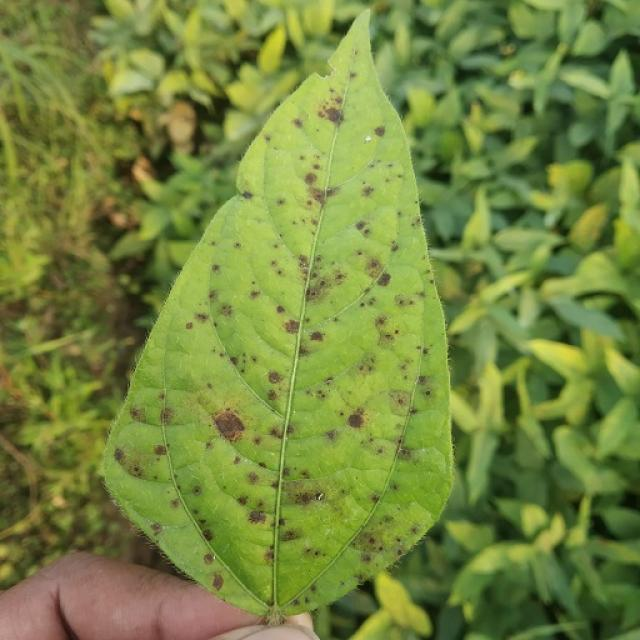Anthracnose: (204, 402, 264, 452), (279, 478, 334, 507), (305, 274, 339, 304), (317, 98, 344, 123), (260, 604, 287, 626), (346, 407, 367, 429), (308, 187, 326, 204), (129, 406, 145, 422), (248, 510, 266, 524), (283, 319, 299, 334), (160, 407, 174, 424), (376, 272, 391, 287), (304, 171, 319, 186), (267, 371, 283, 384), (211, 574, 224, 590), (113, 448, 125, 463), (247, 471, 260, 484), (150, 522, 163, 535), (297, 255, 309, 269), (153, 444, 167, 456), (309, 331, 324, 342), (361, 185, 374, 197), (374, 125, 386, 137), (355, 220, 367, 232), (202, 529, 213, 542), (203, 553, 214, 565), (240, 190, 253, 200), (289, 597, 300, 606), (275, 305, 285, 314), (364, 133, 373, 142), (185, 322, 193, 330)
Blackgram: (104, 15, 451, 611)
